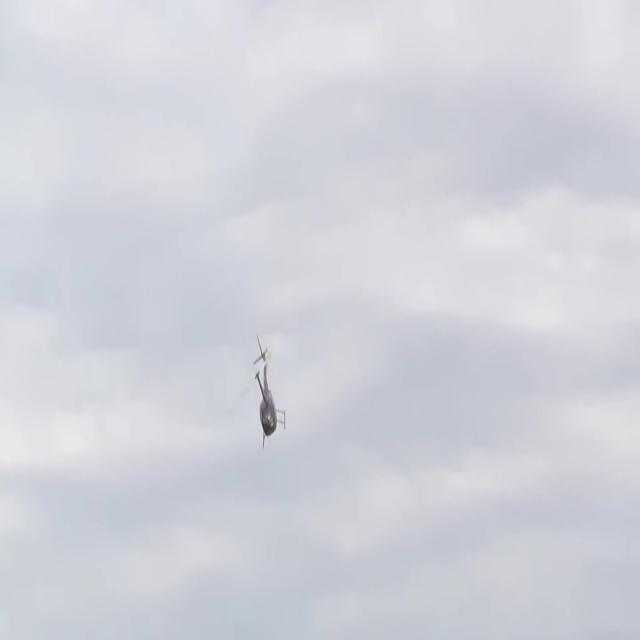CIV_HELO: (252, 334, 286, 448)
